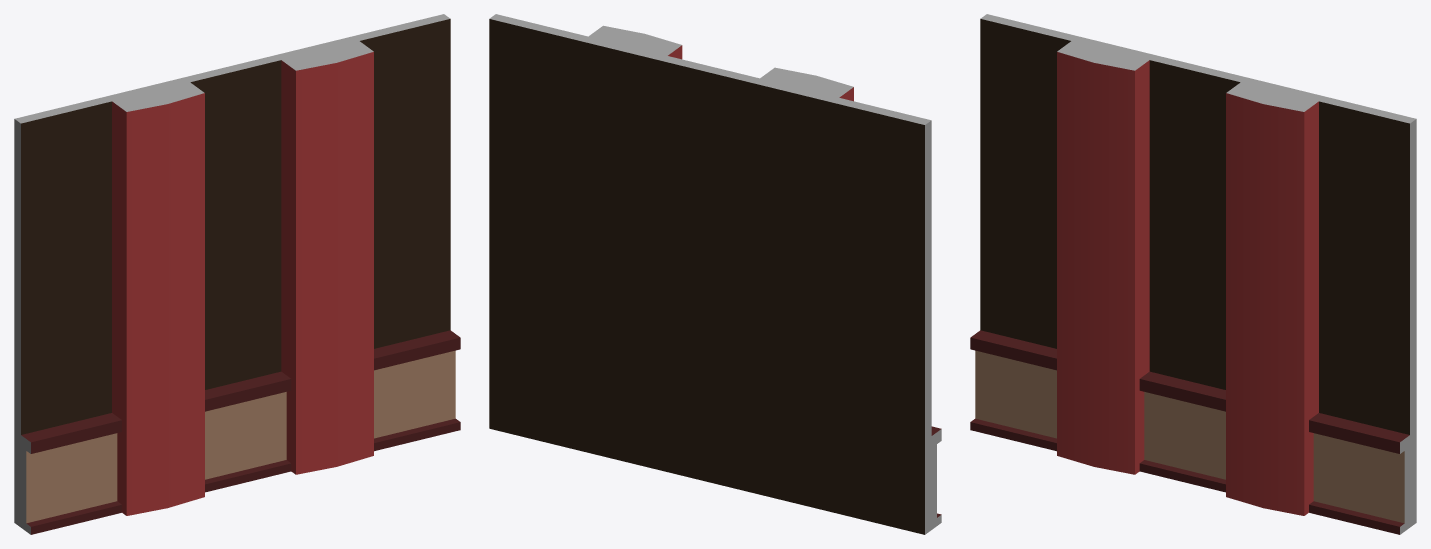
The model's file is L2_wall.fbx.
3 views of the same model, side by side, from view 1: azimuth 30°, elevation 25°; view 2: azimuth 150°, elevation 25°; view 3: azimuth 330°, elevation 25° (orthographic).
Visible parts, largest first — view 1: L2_wall; view 2: L2_wall; view 3: L2_wall.
Part boxes in pixels (x1,y1,x2,y2): L2_wall: [14, 14, 460, 534]; L2_wall: [489, 14, 941, 534]; L2_wall: [970, 14, 1416, 534].
Bounding box in the file's own units: 103 × 92.54 × 9.65.
